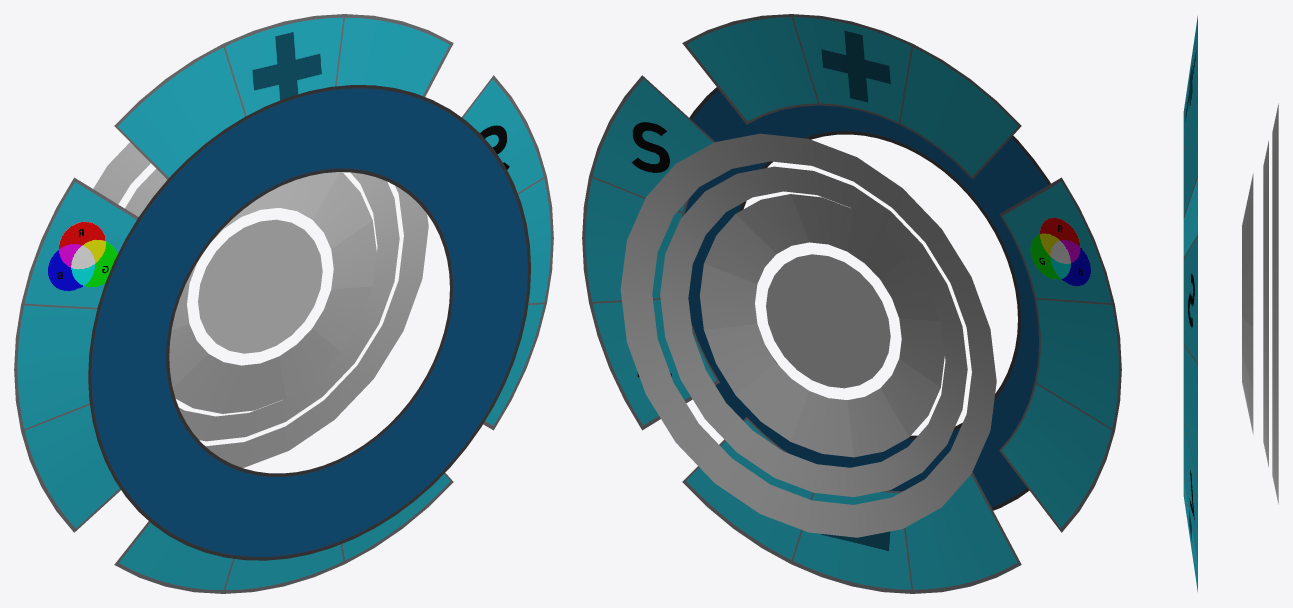
The model's file is VoxMenu.fbx.
The picture shows the model from 3 angles, left to right: view 1: azimuth 30°, elevation 25°; view 2: azimuth 150°, elevation 25°; view 3: azimuth 270°, elevation 25°; orthographic projection. The views are drawn at different scales.
Parts seen in each view (by area): view 1: DialHeadings, CurrentColor, ColorBrightnessWheel, RightB1, TopB3, ColorSaturationWheel, RightB2, TopB2, RightB3, TopB1, BottomB1, LeftB3 (+12 smaller); view 2: ColorBrightnessWheel, DialHeadings, ColorSaturationWheel, CurrentColor, TopB1, RightB3, TopB2, RightB2, TopB3, RightB1, BottomB1, LeftB3 (+16 smaller); view 3: ColorBrightnessWheel, ColorSaturationWheel, LeftB3, LeftB2, TopB1, LeftB1, TopB2, RightB2, Color11, Color10, Color12, Color9 (+2 smaller).
Part boxes in pixels (x1,y1,x2,y2): DialHeadings: (88,85,530,560); CurrentColor: (198,219,322,353); ColorBrightnessWheel: (93,142,428,467); RightB1: (21,177,138,308); TopB3: (114,44,245,179); ColorSaturationWheel: (125,168,399,441); RightB2: (14,304,97,431); TopB2: (223,14,344,116); RightB3: (21,405,120,532); TopB1: (336,14,453,96); BottomB1: (114,521,233,593); LeftB3: (461,75,546,193); ColorBrightnessWheel: (620,133,996,537); DialHeadings: (684,87,1050,510); ColorSaturationWheel: (660,166,967,497); CurrentColor: (766,254,890,388); TopB1: (682,14,818,124); RightB3: (999,383,1114,532); TopB2: (791,14,912,124); RightB2: (1034,299,1121,431); TopB3: (900,44,1021,179); RightB1: (999,177,1114,304); BottomB1: (900,472,1021,593); LeftB3: (589,75,714,213); ColorBrightnessWheel: (1272,103,1278,504); ColorSaturationWheel: (1263,140,1268,467); LeftB3: (1183,234,1197,363); LeftB2: (1183,344,1197,481); TopB1: (1183,77,1197,218); LeftB1: (1183,423,1197,562); TopB2: (1183,22,1197,151); RightB2: (1183,178,1197,256); Color11: (1242,259,1253,326); Color10: (1242,318,1253,387); Color12: (1242,203,1253,276); Color9: (1242,355,1253,426).
Bounding box in the file's own units: 93.57 × 93.57 × 20.7.
